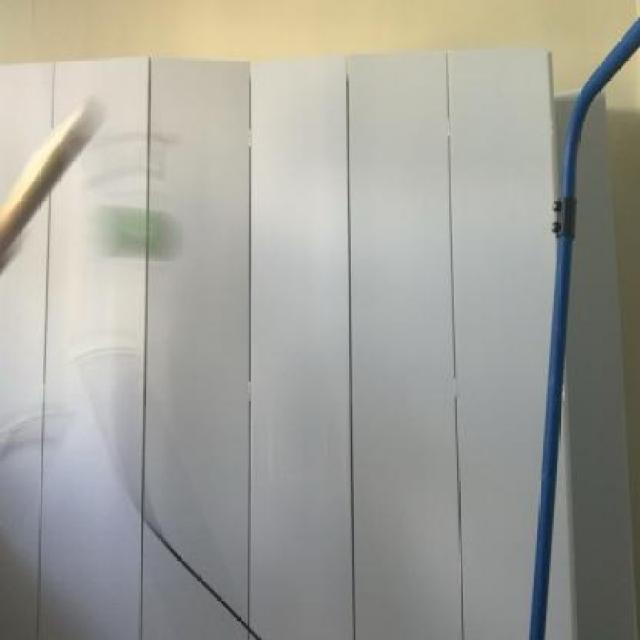baseball: (99, 178, 175, 262)
